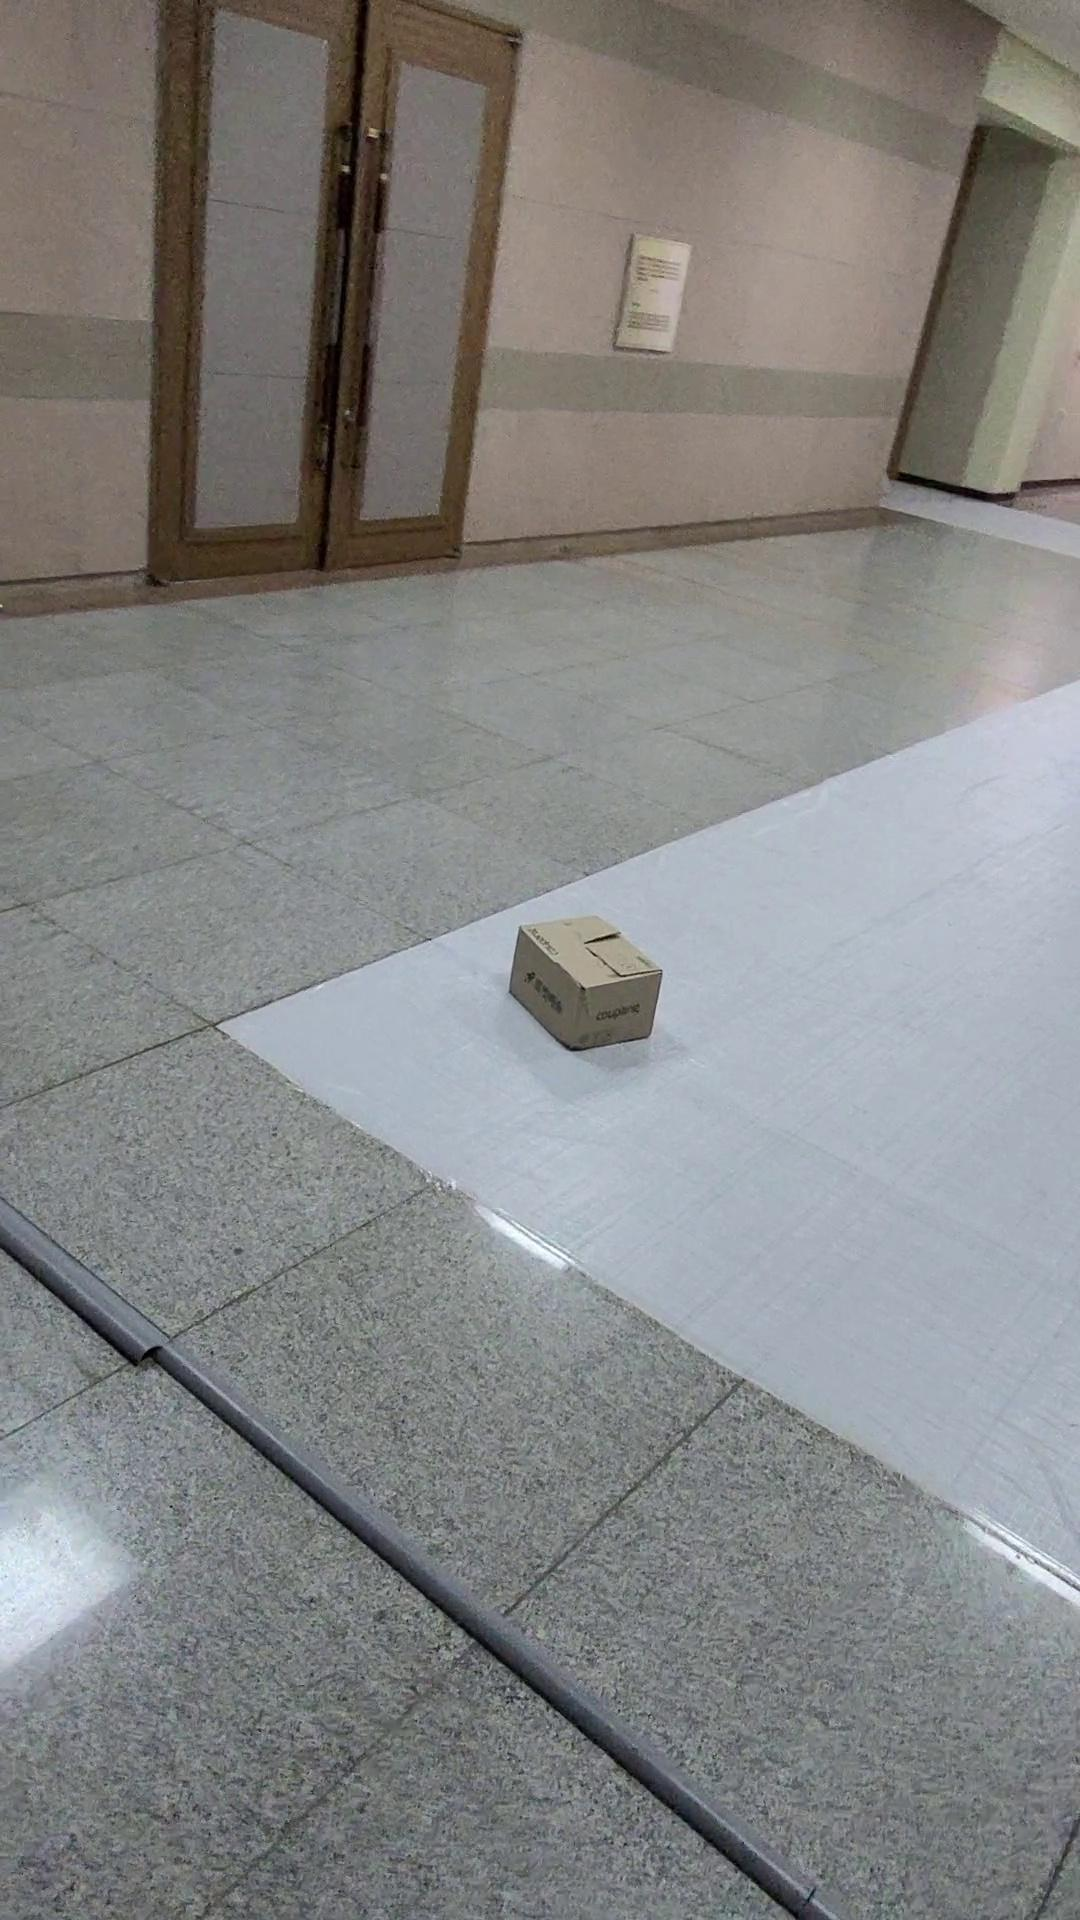Box: (440, 855, 707, 1085)
